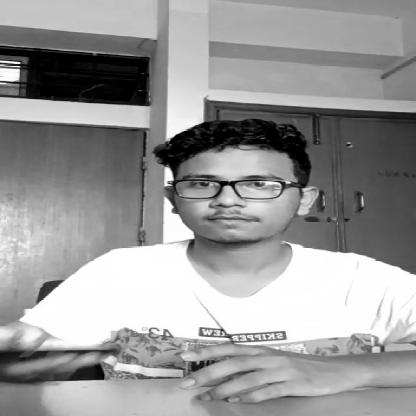Normal: (154, 134, 312, 252)
